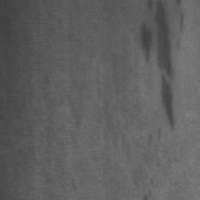inclusion: (147, 1, 185, 98), (156, 70, 180, 134), (137, 23, 155, 67)
